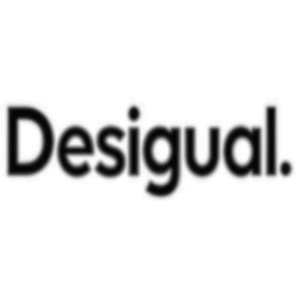desigual: (292, 48, 296, 145)
